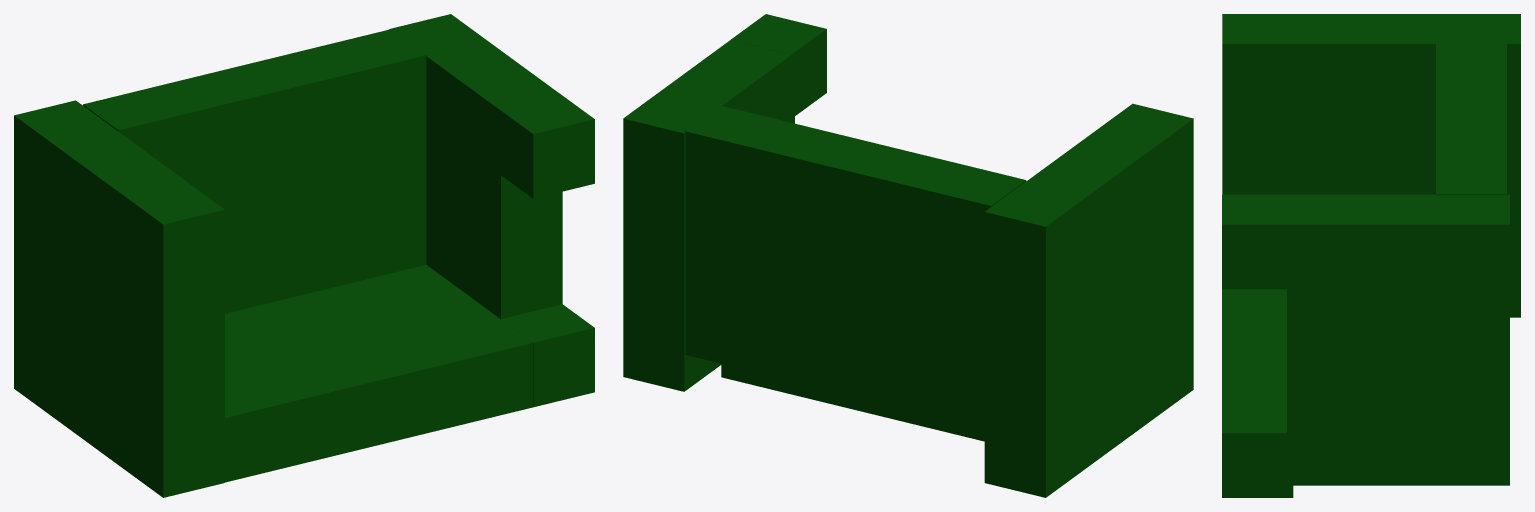
File: room2.fbx
The picture shows the model from 3 angles, left to right: view 1: azimuth 30°, elevation 25°; view 2: azimuth 150°, elevation 25°; view 3: azimuth 270°, elevation 25°; orthographic projection.
Parts seen in each view (by area): view 1: Объект_Куб_19, Объект_Куб_15, Объект_Куб_16, Объект_Куб_17, Объект_Куб_11, Объект_Куб_14, Объект_Куб_12, Объект_Куб_13, Объект_Куб_18, Объект_Куб_10, Объект_Куб_8, Объект_Куб_3 (+6 smaller); view 2: Объект_Куб_15, Объект_Куб_19, Объект_Куб_16, Объект_Куб_17, Объект_Куб_3, Объект_Куб_1, Объект_Куб_2, Объект_Куб_4; view 3: Объект_Куб_16, Объект_Куб_19, Объект_Куб_15, Объект_Куб_17, Объект_Куб_18, Объект_Куб_14, Объект_Куб_13, Объект_Куб_12, Объект_Куб_11.
Boxes of the visible parts, x1,y1,x2,y2 form: Объект_Куб_19: (14, 100, 224, 497); Объект_Куб_15: (83, 29, 427, 313); Объект_Куб_16: (389, 14, 562, 318); Объект_Куб_17: (497, 93, 594, 198); Объект_Куб_11: (251, 362, 348, 467); Объект_Куб_14: (436, 317, 532, 422); Объект_Куб_12: (313, 347, 409, 452); Объект_Куб_13: (375, 332, 471, 437); Объект_Куб_18: (501, 304, 594, 407); Объект_Куб_10: (225, 377, 286, 482); Объект_Куб_8: (339, 306, 435, 346); Объект_Куб_3: (303, 280, 399, 320); Объект_Куб_15: (684, 105, 1026, 427); Объект_Куб_19: (984, 103, 1193, 497); Объект_Куб_16: (623, 40, 794, 391); Объект_Куб_17: (731, 14, 826, 118); Объект_Куб_3: (782, 378, 843, 406); Объект_Куб_1: (904, 408, 965, 436); Объект_Куб_2: (843, 393, 904, 421); Объект_Куб_4: (721, 363, 782, 391); Объект_Куб_16: (1287, 194, 1509, 485); Объект_Куб_19: (1222, 14, 1520, 317); Объект_Куб_15: (1436, 43, 1506, 195); Объект_Куб_17: (1222, 194, 1293, 289); Объект_Куб_18: (1222, 403, 1293, 497); Объект_Куб_14: (1222, 373, 1286, 403); Объект_Куб_13: (1222, 343, 1286, 372); Объект_Куб_12: (1222, 313, 1286, 342); Объект_Куб_11: (1222, 289, 1286, 312).
Size of the model in its own units: 1400 by 850 by 839.
